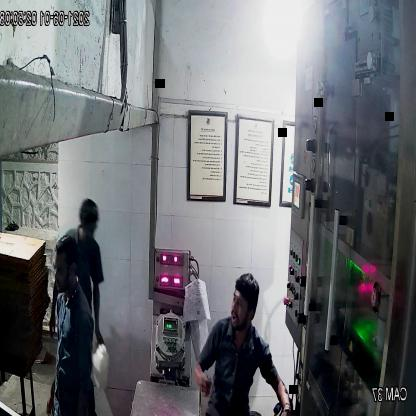no_goggles: (224, 291, 255, 315)
